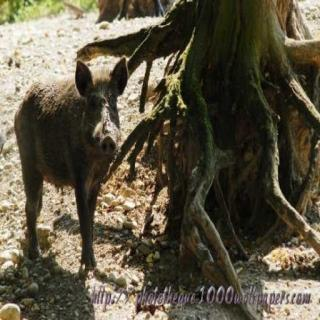Pig: (10, 38, 132, 293)
